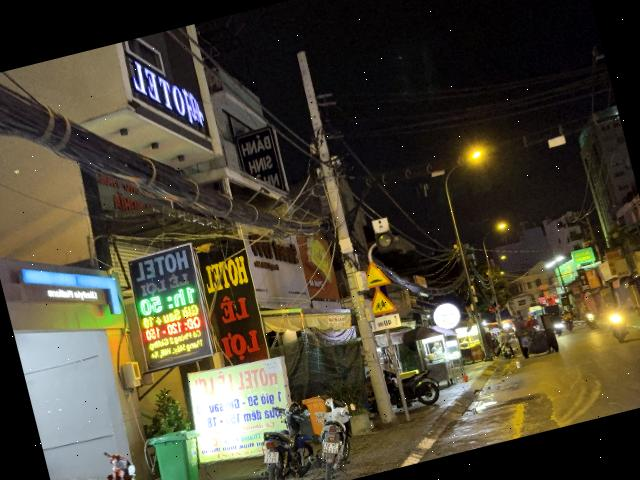duong-co-go-giam-toc: (363, 257, 391, 288)
tre-em-qua-duong: (366, 285, 397, 317)
